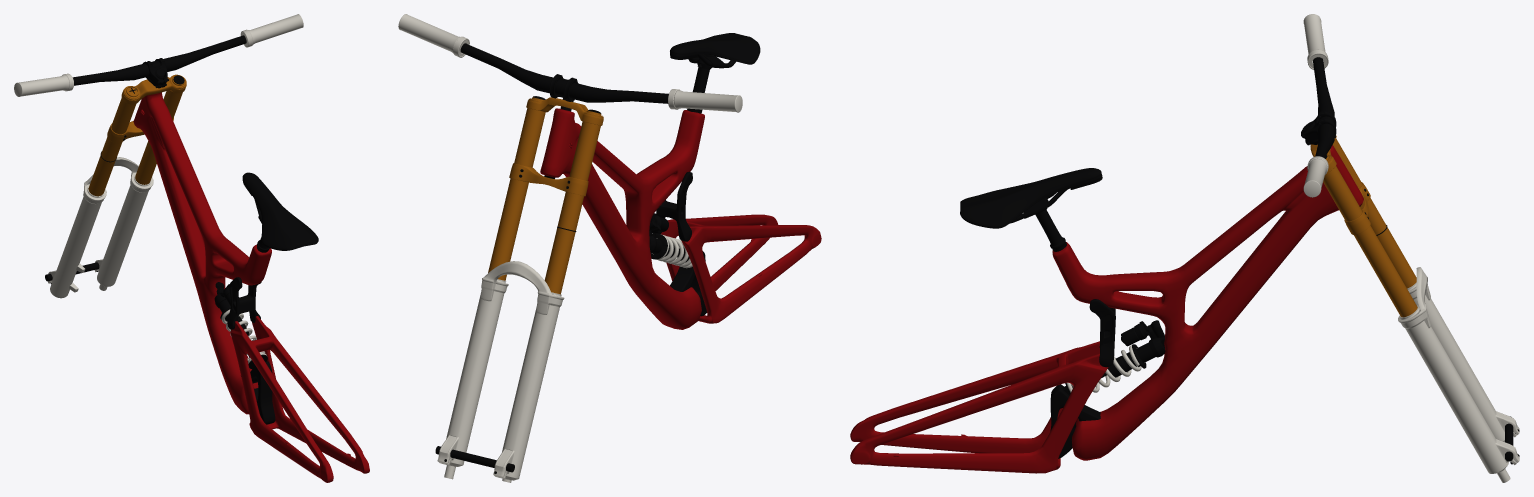
The model's file is santa-claus.glb.
3 views of the same model, side by side, from view 1: azimuth 30°, elevation 25°; view 2: azimuth 150°, elevation 25°; view 3: azimuth 270°, elevation 25° (orthographic). The views are drawn at different scales.
Parts seen in each view (by area): view 1: frame, front; view 2: frame, front; view 3: frame, front.
Boxes of the visible parts, box(x1,y1,x2,y2) form: frame: box(133, 92, 369, 482); front: box(14, 14, 303, 298); frame: box(540, 33, 821, 329); front: box(398, 14, 742, 482); frame: box(850, 145, 1363, 473); front: box(1301, 14, 1519, 482).
Bounding box in the file's own units: 0.835 × 0.8557 × 1.4.
